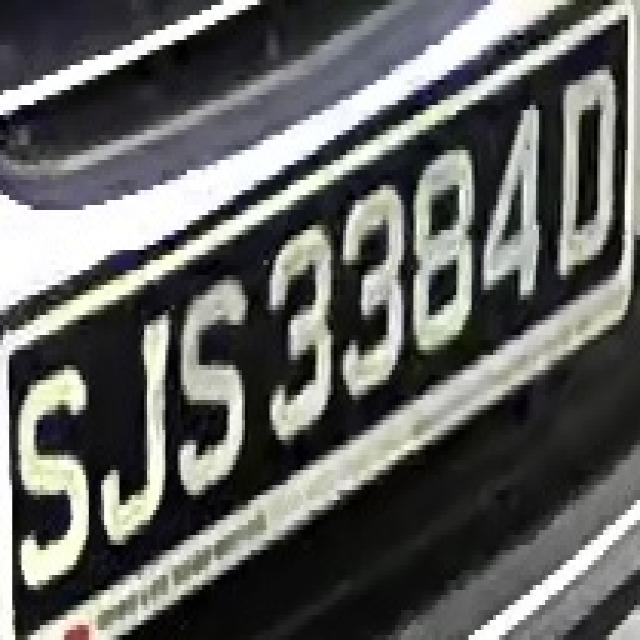3: (257, 210, 340, 435), (340, 165, 413, 410)
4: (481, 75, 542, 340)
8: (407, 145, 487, 380)
D: (551, 55, 619, 290)
J: (86, 300, 178, 530)
S: (175, 275, 251, 505), (15, 370, 92, 585)
